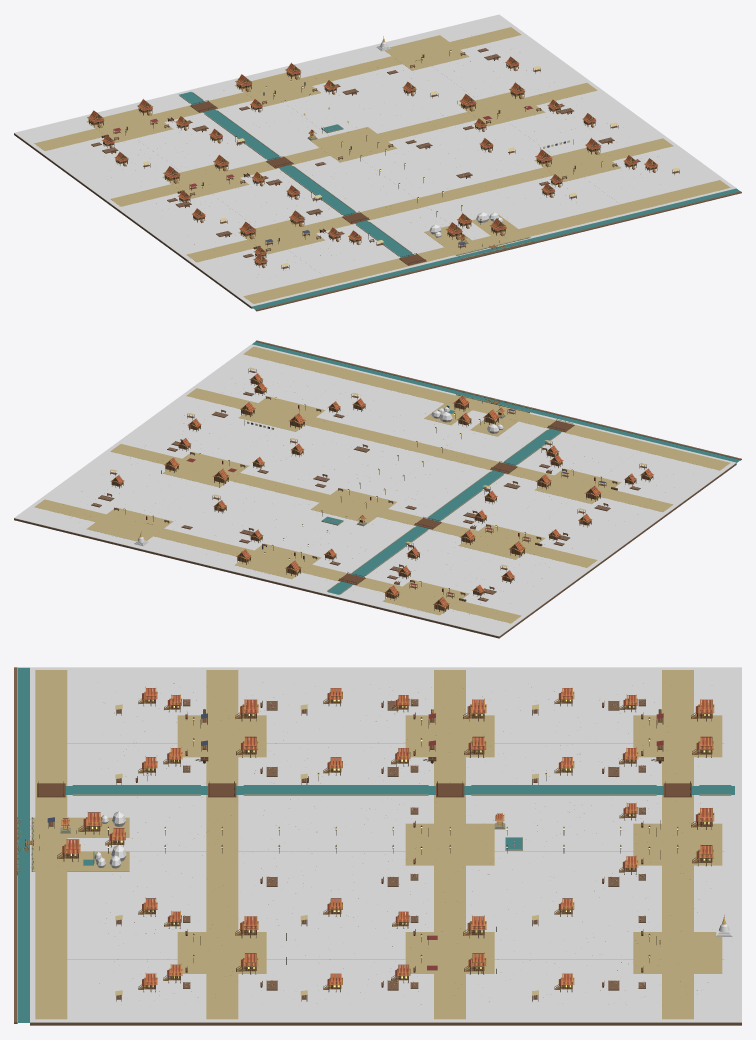
Rendered from phitsanulok.glb.
3 renders of one model, top to bottom at view 1: azimuth 30°, elevation 25°; view 2: azimuth 150°, elevation 25°; view 3: azimuth 270°, elevation 25°, orthographic. The views are drawn at different scales.
Visible parts, largest first — view 1: Expanded ground · meadow, Regional avenues · sand, Regional avenues · paving, City canal · water, River extension · water, District square 4 · sand, District square 6 · sand, District square 7 · sand, District square 1 · sand, District square 3 · sand, District square 2 · sand, District square 0 · sand (+8 smaller); view 2: Expanded ground · meadow, Regional avenues · sand, Regional avenues · paving, City canal · water, Expanded ground · earth, River extension · water, District square 4 · sand, District square 6 · sand, District square 1 · sand, District square 7 · sand, District square 2 · sand, District square 5 · sand (+8 smaller); view 3: Expanded ground · meadow, Regional avenues · sand, Regional avenues · paving, City canal · water, District square 4 · sand, District square 6 · sand, River extension · water, District square 7 · sand, District square 1 · sand, District square 0 · sand, District square 5 · sand, District square 2 · sand (+9 smaller).
Part boxes in pixels (x1=…): Expanded ground · meadow: x1=14, y1=14, x2=736, y2=306; Regional avenues · sand: x1=34, y1=27, x2=730, y2=303; Regional avenues · paving: x1=105, y1=39, x2=638, y2=276; City canal · water: x1=179, y1=92, x2=413, y2=257; River extension · water: x1=251, y1=188, x2=739, y2=309; District square 4 · sand: x1=310, y1=127, x2=397, y2=162; District square 6 · sand: x1=385, y1=35, x2=469, y2=70; District square 7 · sand: x1=234, y1=72, x2=320, y2=106; District square 1 · sand: x1=534, y1=147, x2=620, y2=181; District square 3 · sand: x1=458, y1=92, x2=545, y2=126; District square 2 · sand: x1=162, y1=164, x2=249, y2=198; District square 0 · sand: x1=238, y1=220, x2=324, y2=254; Expanded ground · meadow: x1=14, y1=344, x2=736, y2=636; Regional avenues · sand: x1=34, y1=346, x2=730, y2=623; Regional avenues · paving: x1=105, y1=374, x2=638, y2=610; City canal · water: x1=327, y1=428, x2=561, y2=594; Expanded ground · earth: x1=14, y1=463, x2=736, y2=638; River extension · water: x1=252, y1=341, x2=740, y2=463; District square 4 · sand: x1=311, y1=488, x2=396, y2=523; District square 6 · sand: x1=86, y1=507, x2=173, y2=541; District square 1 · sand: x1=238, y1=396, x2=325, y2=431; District square 7 · sand: x1=234, y1=543, x2=321, y2=579; District square 2 · sand: x1=458, y1=524, x2=545, y2=559; District square 5 · sand: x1=382, y1=579, x2=469, y2=615; Expanded ground · meadow: x1=30, y1=667, x2=741, y2=1022; Regional avenues · sand: x1=35, y1=670, x2=693, y2=1019; Regional avenues · paving: x1=67, y1=729, x2=724, y2=959; City canal · water: x1=65, y1=786, x2=734, y2=794; District square 4 · sand: x1=405, y1=823, x2=494, y2=865; District square 6 · sand: x1=633, y1=932, x2=722, y2=973; River extension · water: x1=18, y1=667, x2=31, y2=1022; District square 7 · sand: x1=633, y1=823, x2=722, y2=865; District square 1 · sand: x1=177, y1=932, x2=266, y2=973; District square 0 · sand: x1=177, y1=715, x2=266, y2=757; District square 5 · sand: x1=633, y1=715, x2=722, y2=757; District square 2 · sand: x1=405, y1=715, x2=494, y2=757.
Size of the model in its own units: 236 by 7.79 by 204.
